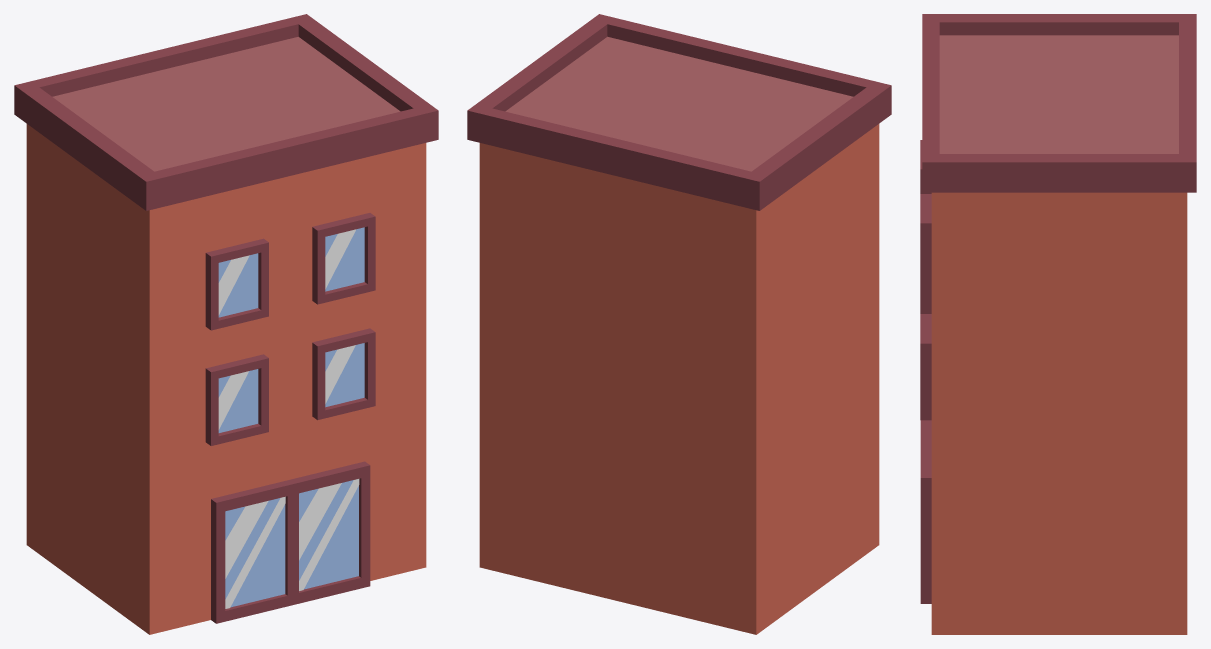
The model's file is Building.fbx.
3 views of the same model, side by side, from view 1: azimuth 30°, elevation 25°; view 2: azimuth 150°, elevation 25°; view 3: azimuth 270°, elevation 25° (orthographic). The views are drawn at different scales.
Visible parts, largest first — view 1: Building; view 2: Building; view 3: Building.
Part boxes in pixels (left/top/right/bottom): Building: left=14, top=14, right=438, bottom=634; Building: left=467, top=14, right=891, bottom=634; Building: left=920, top=14, right=1196, bottom=634.
Size of the model in its own units: 137 by 206 by 108.
1 material, 1 textured.
